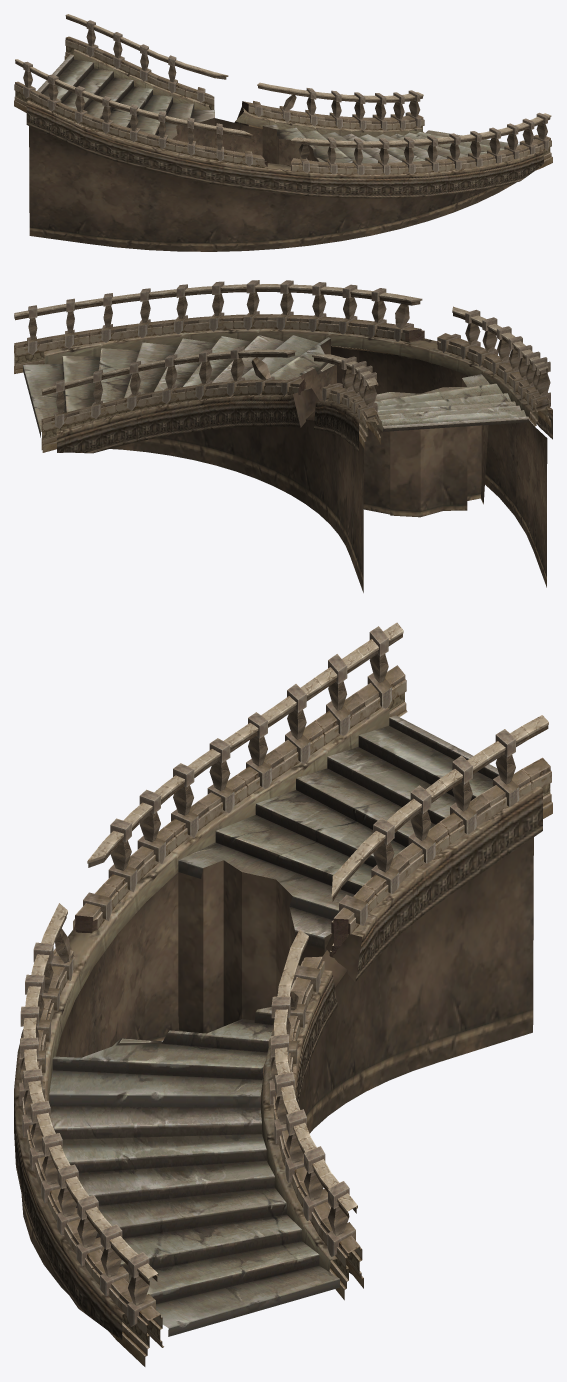
Rendered from blsd4_louti_po.FBX.
3 views of the same model, one above another, from view 1: azimuth 30°, elevation 25°; view 2: azimuth 150°, elevation 25°; view 3: azimuth 270°, elevation 25° (orthographic). The views are drawn at different scales.
Parts seen in each view (by area): view 1: blsd4_louti_a_001, blsd4_louti_a_002, blsd4_louti_b_002, blsd4_louti_b_001; view 2: blsd4_louti_a_002, blsd4_louti_a_001, blsd4_louti_b_002, blsd4_louti_b_001; view 3: blsd4_louti_a_001, blsd4_louti_a_002, blsd4_louti_b_001, blsd4_louti_b_002.
Boxes of the visible parts, x1,y1,x2,y2 form: blsd4_louti_a_001: [26, 49, 310, 251]; blsd4_louti_a_002: [234, 107, 543, 245]; blsd4_louti_b_002: [242, 82, 552, 174]; blsd4_louti_b_001: [14, 14, 267, 167]; blsd4_louti_a_002: [23, 328, 431, 503]; blsd4_louti_a_001: [305, 338, 552, 592]; blsd4_louti_b_002: [14, 280, 424, 452]; blsd4_louti_b_001: [312, 306, 550, 449]; blsd4_louti_a_001: [68, 707, 542, 1115]; blsd4_louti_a_002: [14, 937, 352, 1339]; blsd4_louti_b_001: [73, 622, 552, 957]; blsd4_louti_b_002: [19, 903, 363, 1366].
Size of the model in its own units: 1581 by 555 by 836.
